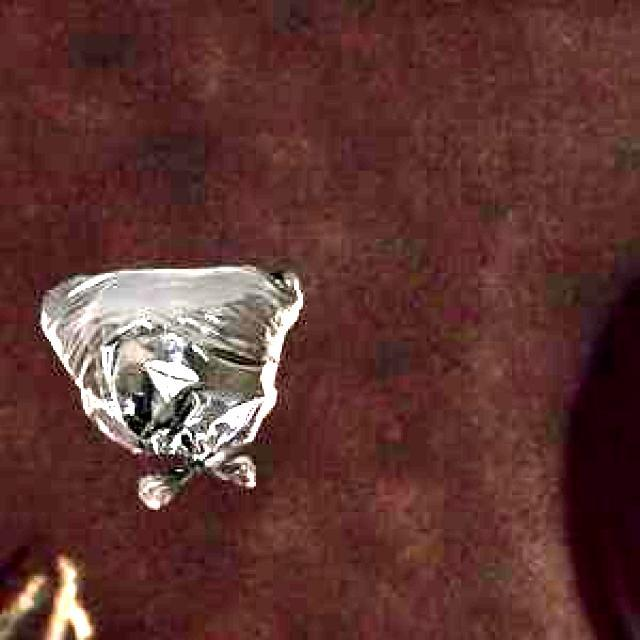Garbage_Bag: (40, 264, 298, 504)
